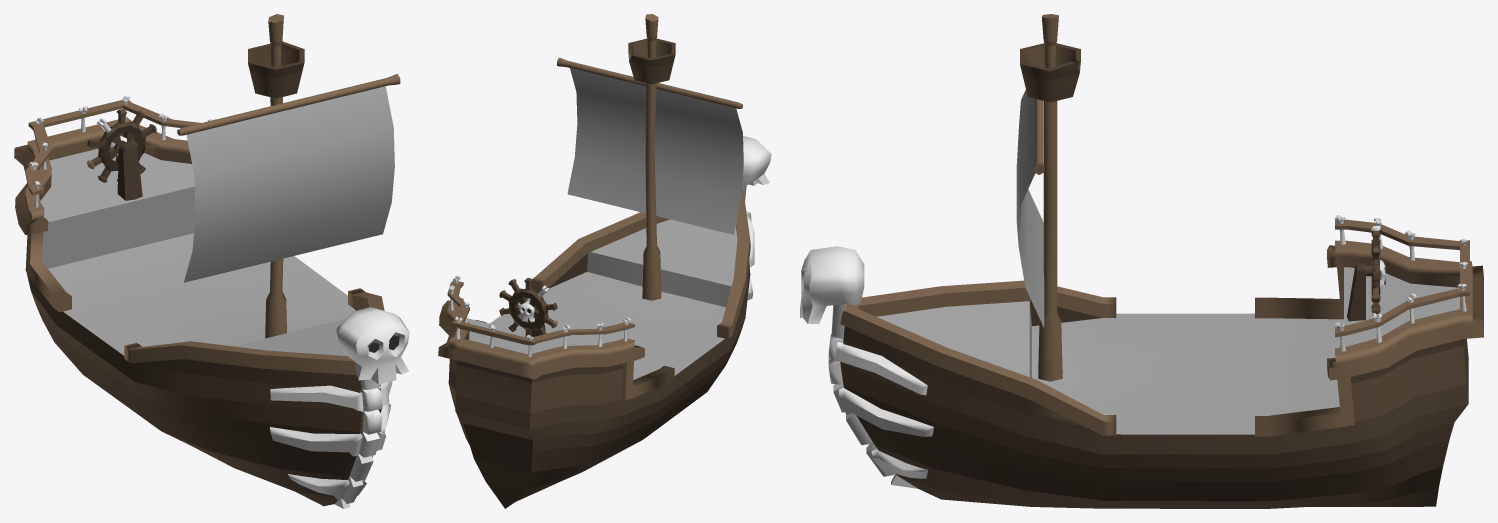
The model's file is Ship_Player.fbx.
3 renders of one model, left to right at view 1: azimuth 30°, elevation 25°; view 2: azimuth 150°, elevation 25°; view 3: azimuth 270°, elevation 25°, orthographic. The views are drawn at different scales.
Parts seen in each view (by area): view 1: Ship_Base, Ship_Mast, Ship_Skull, Ship_Nest, Ship_Steer, Ship_SteerHolder; view 2: Ship_Base, Ship_Mast, Ship_Steer, Ship_Nest, Ship_Skull; view 3: Ship_Base, Ship_Mast, Ship_Skull, Ship_Nest, Ship_Steer, Ship_SteerHolder.
Part boxes in pixels (bbox=[...]): Ship_Base: bbox=[14, 95, 392, 508]; Ship_Mast: bbox=[177, 14, 400, 338]; Ship_Skull: bbox=[336, 307, 409, 384]; Ship_Nest: bbox=[248, 41, 304, 98]; Ship_Steer: bbox=[87, 109, 156, 182]; Ship_SteerHolder: bbox=[117, 143, 142, 200]; Ship_Base: bbox=[438, 185, 754, 508]; Ship_Mast: bbox=[557, 14, 743, 300]; Ship_Steer: bbox=[499, 278, 557, 337]; Ship_Nest: bbox=[628, 38, 675, 84]; Ship_Skull: bbox=[742, 136, 771, 186]; Ship_Base: bbox=[828, 215, 1483, 508]; Ship_Mast: bbox=[1016, 14, 1062, 381]; Ship_Skull: bbox=[800, 246, 864, 323]; Ship_Nest: bbox=[1020, 43, 1080, 102]; Ship_Steer: bbox=[1366, 226, 1385, 313]; Ship_SteerHolder: bbox=[1347, 262, 1365, 321].
Size of what is drawn, in the model's own units: 294 by 540 by 677.
3 materials, 1 textured.
